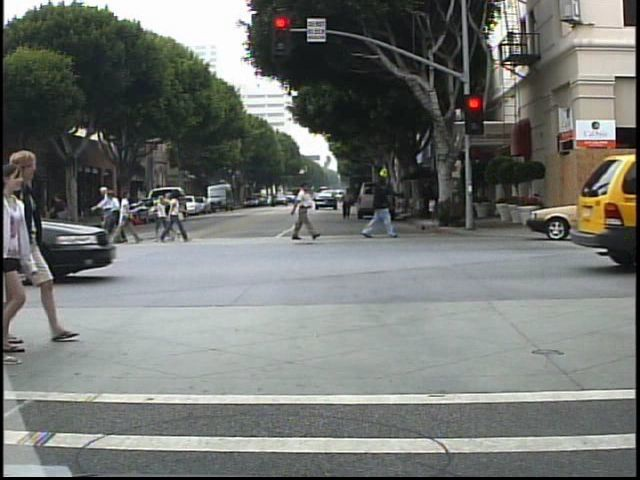person: (11, 145, 57, 349), (3, 164, 38, 363), (362, 169, 397, 242), (290, 177, 321, 242), (110, 188, 142, 249), (165, 188, 188, 246), (96, 182, 114, 246), (340, 184, 356, 220), (116, 187, 117, 246)
